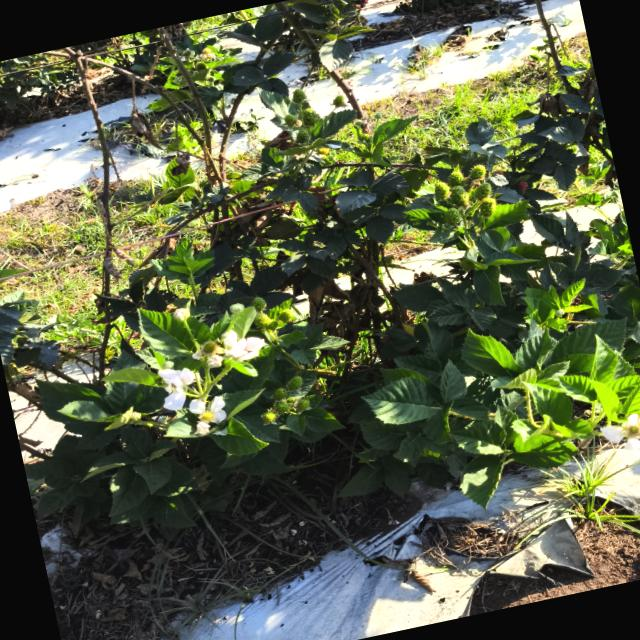boton: (173, 307, 190, 321), (230, 303, 244, 313)
flor: (158, 367, 195, 409), (188, 396, 226, 435), (221, 330, 264, 361)
